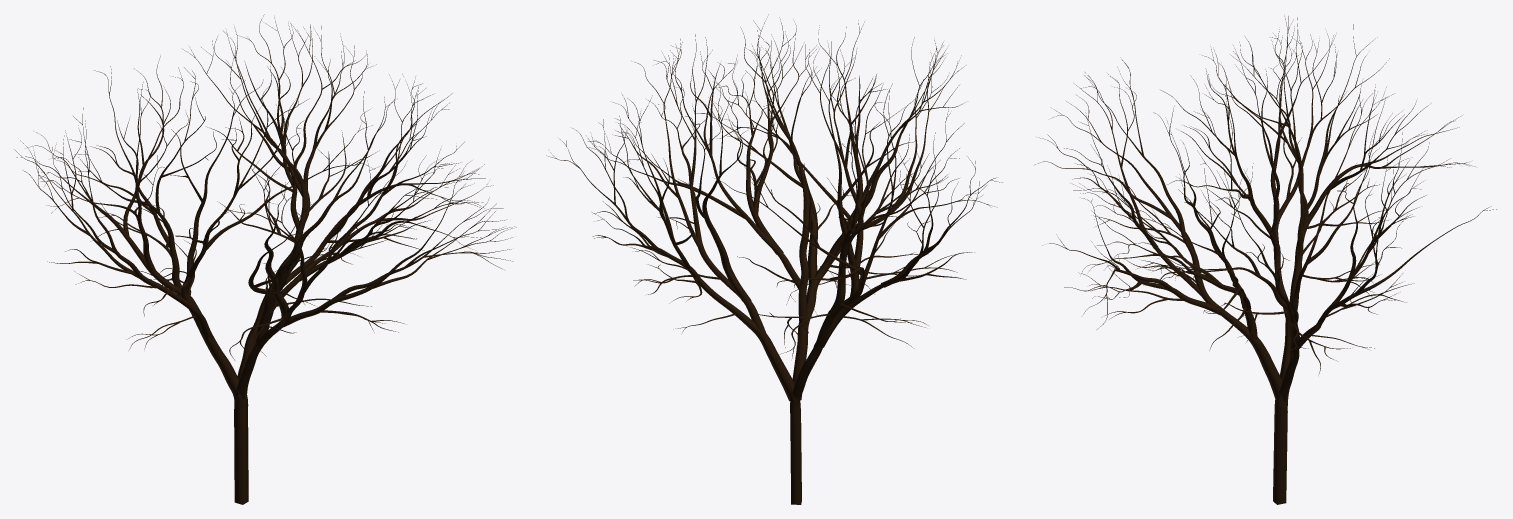
3 views of the same model, side by side, from view 1: azimuth 30°, elevation 25°; view 2: azimuth 150°, elevation 25°; view 3: azimuth 270°, elevation 25° (orthographic).
Parts seen in each view (by area): view 1: tree; view 2: tree; view 3: tree.
Boxes of the visible parts, x1,y1,x2,y2 form: tree: (14,14,516,504); tree: (546,14,1002,504); tree: (1035,16,1496,504).
Size of the model in its own units: 1065 by 1061 by 1013.
